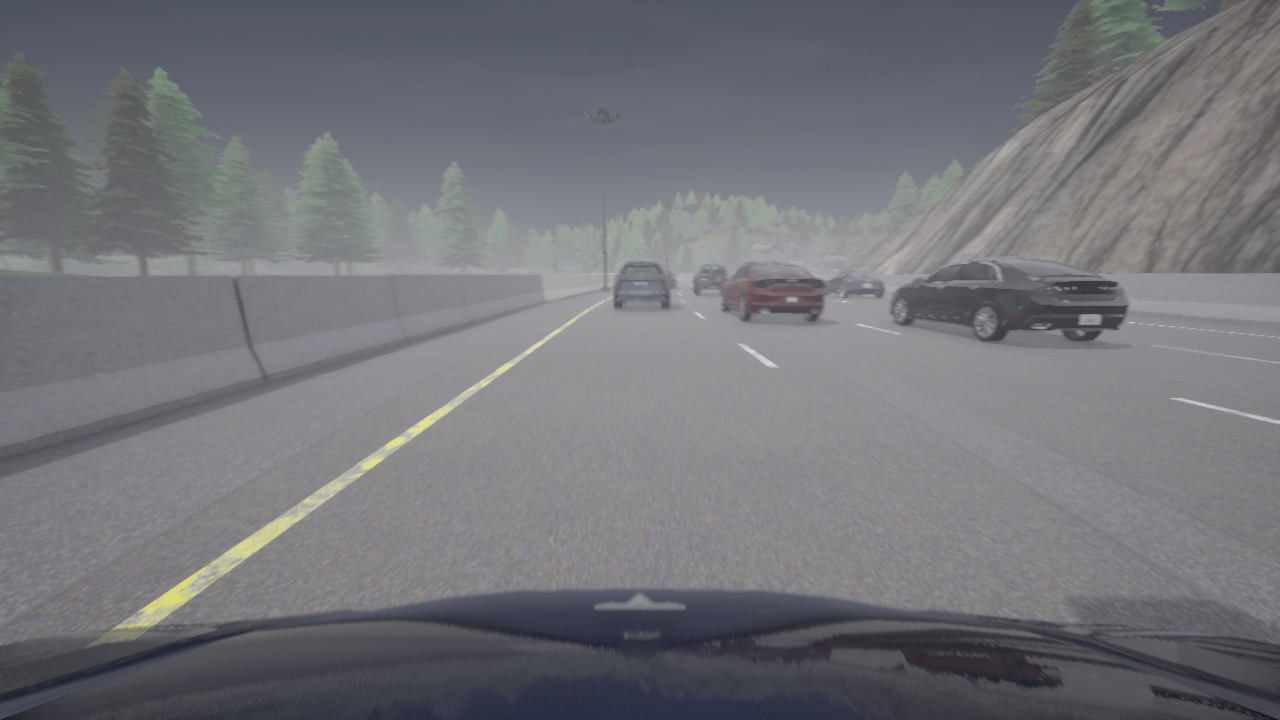cyclist: (0, 588, 1279, 719), (890, 257, 1130, 342), (722, 261, 824, 321), (613, 262, 670, 309), (824, 270, 885, 298), (693, 262, 728, 294), (663, 271, 676, 288), (737, 262, 763, 270)
